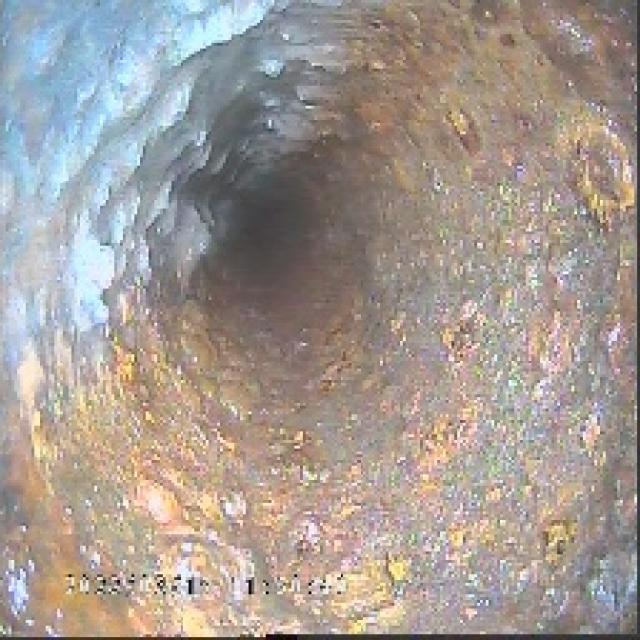encrustation: (14, 14, 623, 426)
